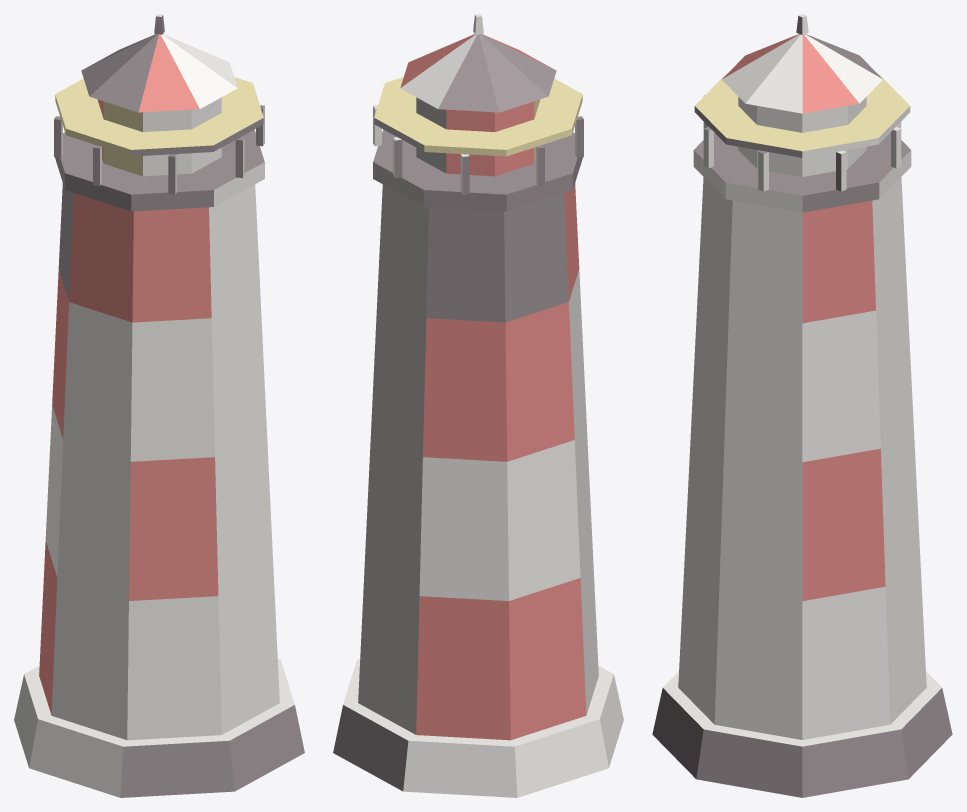
File: Lighthouse.fbx
The picture shows the model from 3 angles, left to right: view 1: azimuth 30°, elevation 25°; view 2: azimuth 150°, elevation 25°; view 3: azimuth 270°, elevation 25°; orthographic projection.
Visible parts, largest first — view 1: Lighthouse; view 2: Lighthouse; view 3: Lighthouse.
Boxes of the visible parts, x1,y1,x2,y2 form: Lighthouse: [14, 14, 304, 797]; Lighthouse: [333, 14, 623, 797]; Lighthouse: [652, 14, 952, 797].
Bounding box in the file's own units: 2.9 × 7.66 × 2.9.
